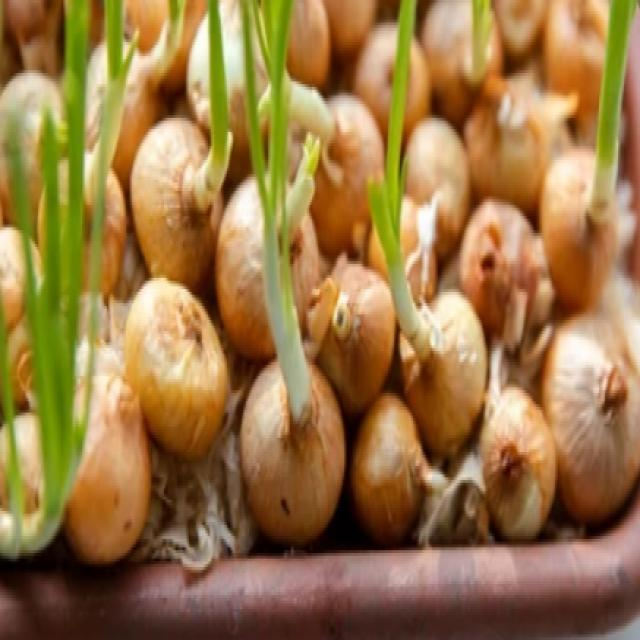sprouting: (258, 172, 312, 430), (379, 165, 422, 348), (190, 11, 227, 208), (593, 59, 611, 225)
